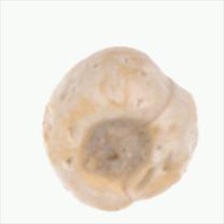L4: (42, 47, 198, 211)
